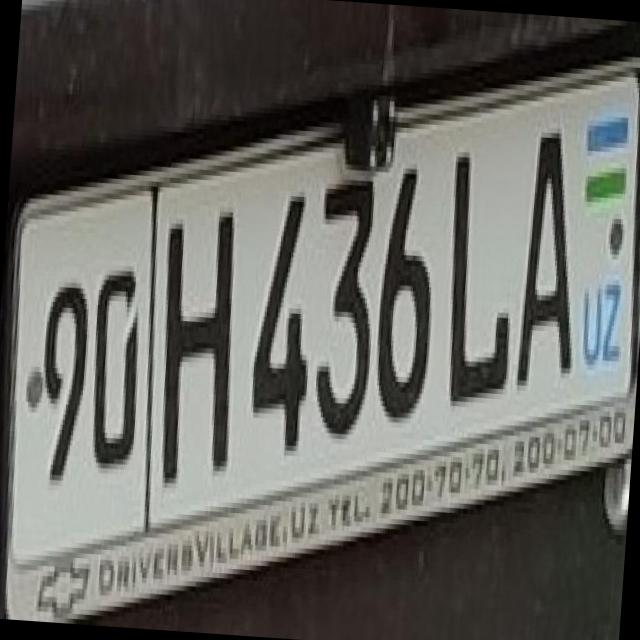0: (74, 252, 152, 470)
3: (302, 152, 386, 440)
4: (232, 167, 326, 457)
6: (363, 141, 454, 425)
9: (22, 264, 98, 477)
A: (502, 104, 597, 394)
H: (142, 192, 246, 486)
L: (431, 120, 530, 420)
